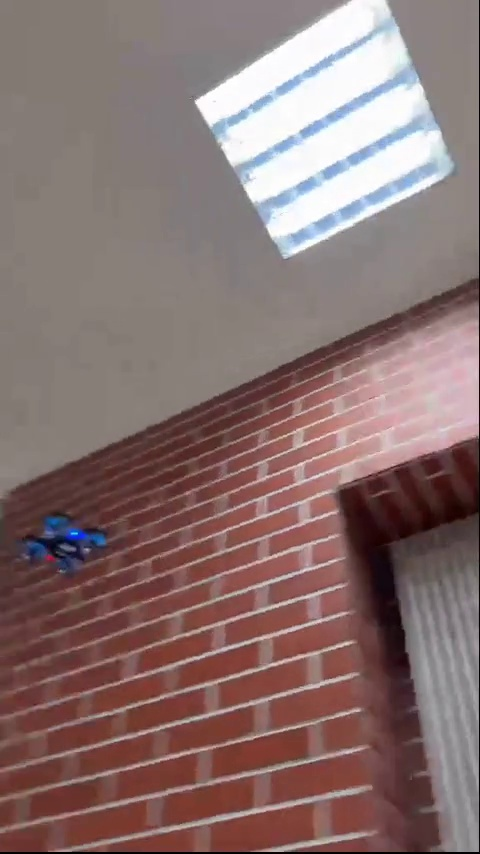drone: (21, 508, 110, 577)
